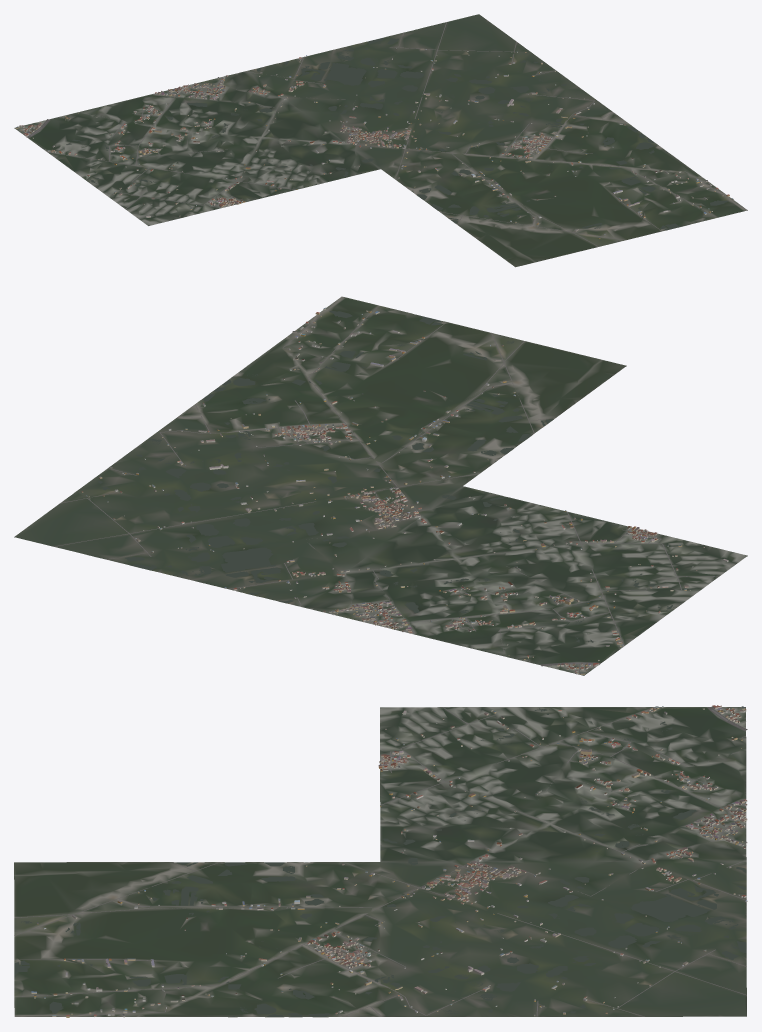
3 views of the same model, one above another, from view 1: azimuth 30°, elevation 25°; view 2: azimuth 150°, elevation 25°; view 3: azimuth 270°, elevation 25° (orthographic). The views are drawn at different scales.
Parts seen in each view (by area): view 1: ground, buildings, water, roads; view 2: ground, buildings, water, roads; view 3: ground, water, buildings, roads.
Boxes of the visible parts, x1,y1,x2,y2 form: ground: (14,14,747,267); buildings: (15,48,733,238); water: (66,37,728,241); roads: (20,22,747,246); ground: (14,296,747,675); buildings: (81,307,728,674); water: (71,311,673,649); roads: (53,298,719,674); ground: (14,707,746,1017); water: (14,708,746,1016); buildings: (31,705,747,1017); roads: (14,706,747,1016).
Bounding box in the file's own units: 2819 × 17.21 × 2810.
